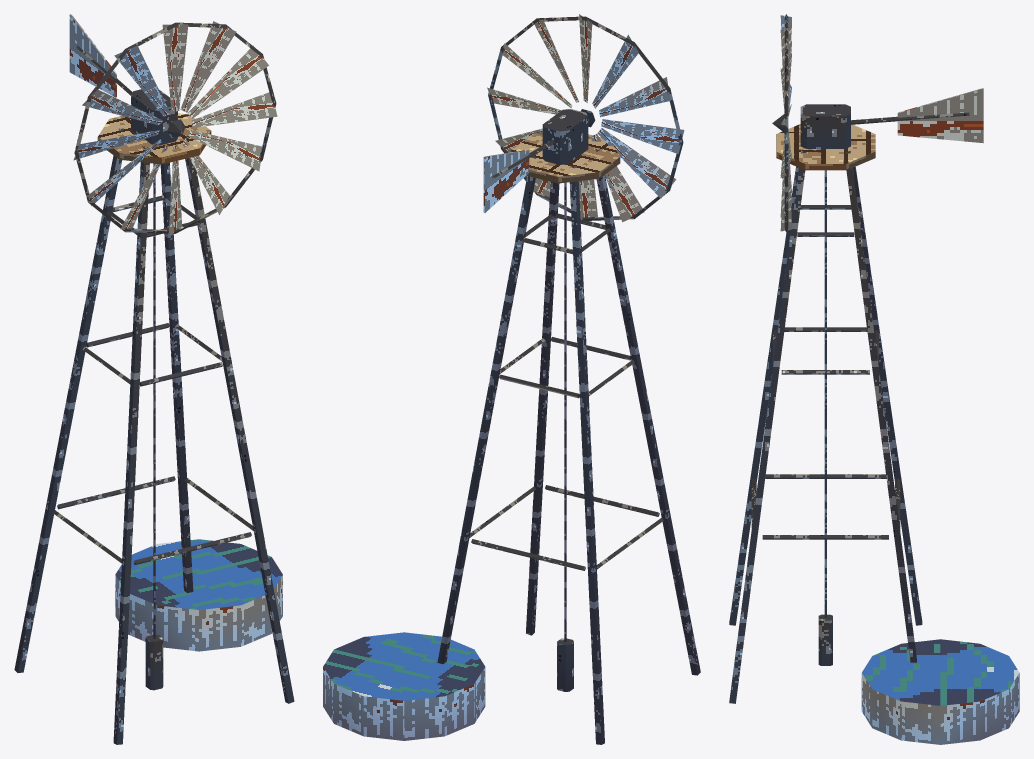
File: wprop.windmill.glb
The picture shows the model from 3 angles, left to right: view 1: azimuth 30°, elevation 25°; view 2: azimuth 150°, elevation 25°; view 3: azimuth 270°, elevation 25°; orthographic projection. The views are drawn at different scales.
Visible parts, largest first — view 1: kit_legs, kit_tank, kit_card_blades, kit_girts, kit_platform, kit_rim, kit_vane, kit_head, kit_rod, kit_pump; view 2: kit_legs, kit_tank, kit_card_blades, kit_girts, kit_platform, kit_head, kit_rim, kit_vane, kit_rod, kit_pump; view 3: kit_tank, kit_legs, kit_girts, kit_vane, kit_platform, kit_head, kit_card_blades, kit_rod, kit_rim, kit_pump, kit_tail_boom.
Part boxes in pixels (bbox=[...]): kit_legs: bbox=[14, 128, 294, 744]; kit_tank: bbox=[115, 539, 282, 651]; kit_card_blades: bbox=[73, 21, 277, 235]; kit_girts: bbox=[52, 195, 253, 564]; kit_platform: bbox=[97, 113, 211, 164]; kit_rim: bbox=[74, 22, 276, 233]; kit_vane: bbox=[69, 14, 116, 97]; kit_head: bbox=[131, 89, 177, 145]; kit_rod: bbox=[153, 163, 155, 638]; kit_pump: bbox=[145, 634, 163, 690]; kit_legs: bbox=[437, 148, 700, 744]; kit_tank: bbox=[323, 632, 485, 740]; kit_card_blades: bbox=[487, 14, 684, 222]; kit_girts: bbox=[469, 213, 663, 570]; kit_platform: bbox=[510, 134, 620, 183]; kit_head: bbox=[542, 109, 588, 164]; kit_rim: bbox=[488, 16, 683, 220]; kit_vane: bbox=[483, 149, 529, 212]; kit_rod: bbox=[564, 182, 566, 641]; kit_pump: bbox=[557, 638, 573, 691]; kit_tank: bbox=[861, 639, 1019, 744]; kit_legs: bbox=[729, 150, 922, 703]; kit_girts: bbox=[751, 205, 900, 539]; kit_vane: bbox=[897, 88, 983, 143]; kit_platform: bbox=[776, 124, 875, 170]; kit_head: bbox=[800, 104, 850, 148]; kit_card_blades: bbox=[780, 15, 791, 231]; kit_rod: bbox=[824, 170, 826, 617]; kit_rim: bbox=[784, 14, 788, 232]; kit_pump: bbox=[818, 614, 832, 665]; kit_tail_boom: bbox=[851, 112, 969, 124].
Size of the model in its own units: 4.23 by 9.84 by 4.05.
Materials: 5 (5 with a texture image).
